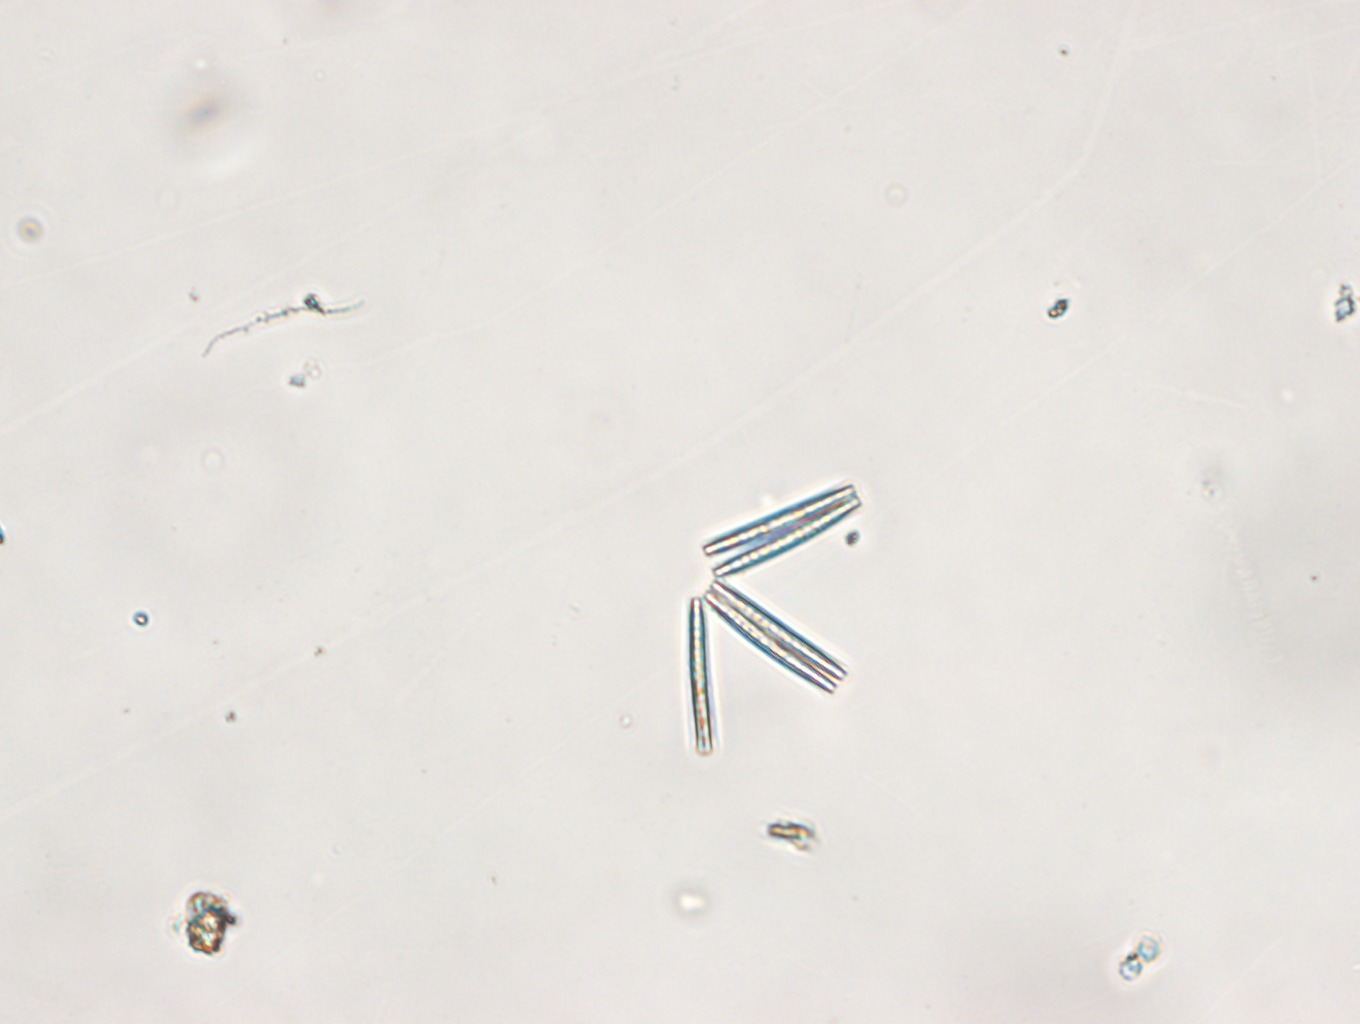thalassionema nitzschioides: (685, 478, 865, 755)
